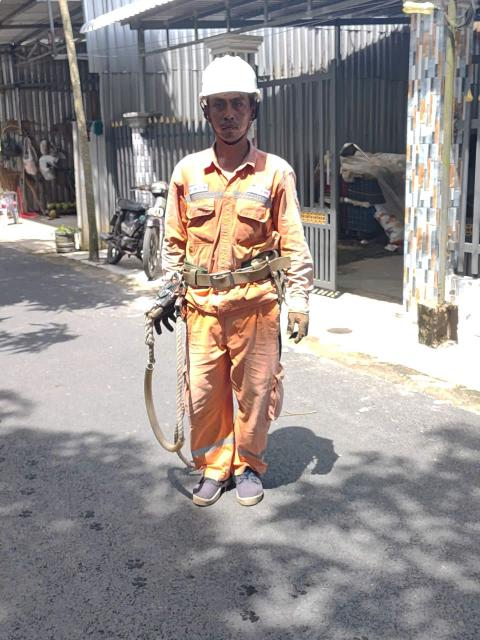harness: (167, 253, 297, 295)
helmet: (189, 49, 280, 112)
shoes: (177, 456, 230, 508), (230, 463, 266, 506)
